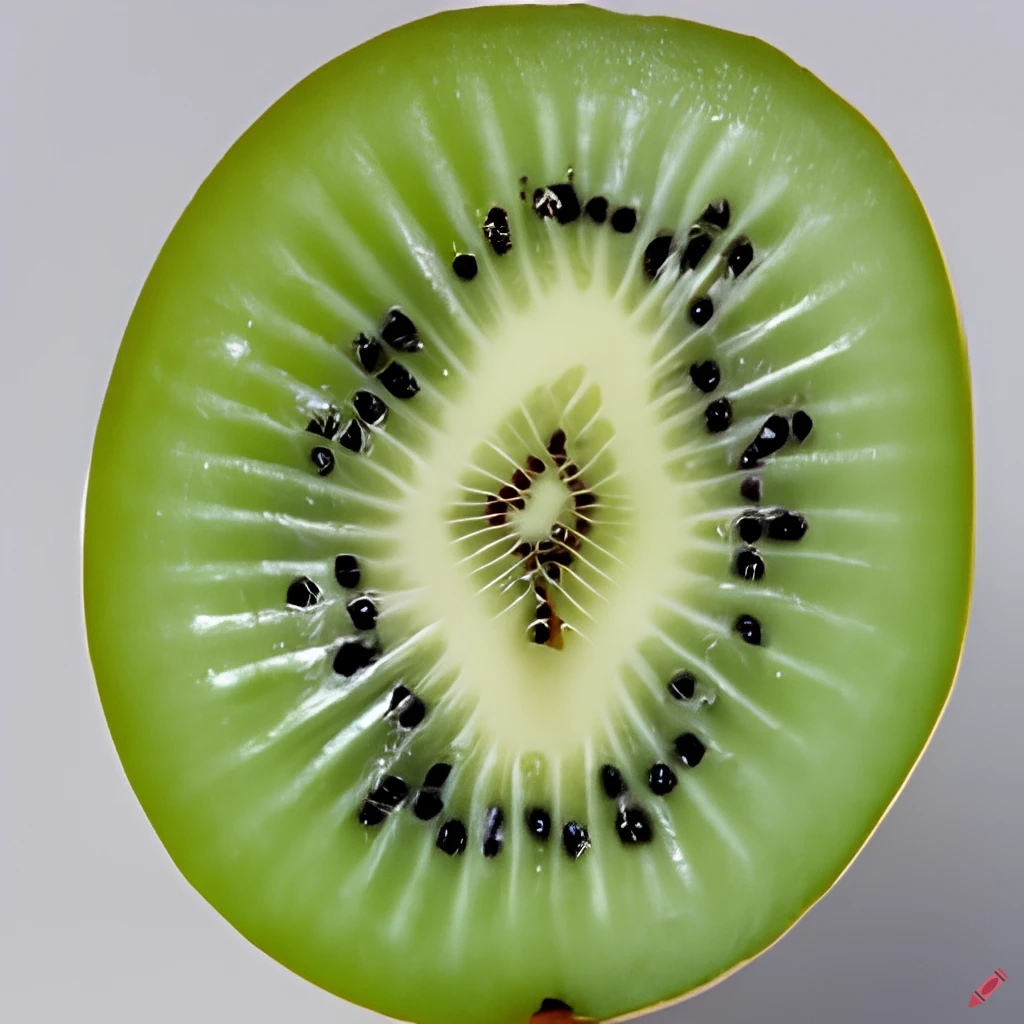Kiwi: (81, 0, 980, 996)
